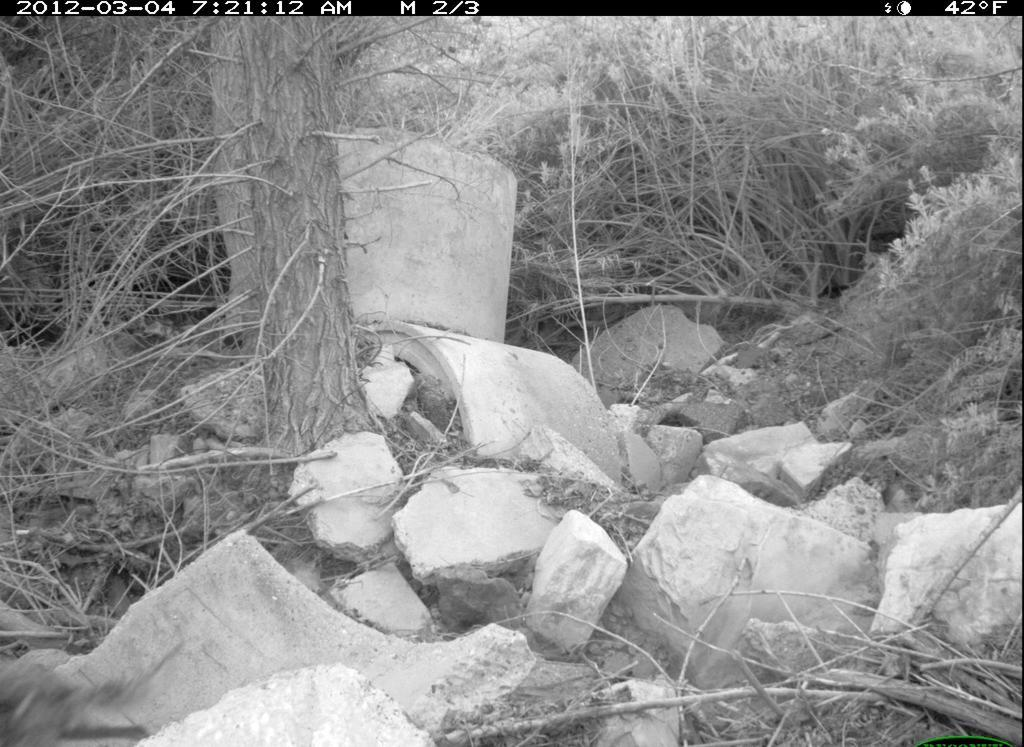coyote: (1, 643, 153, 720)
